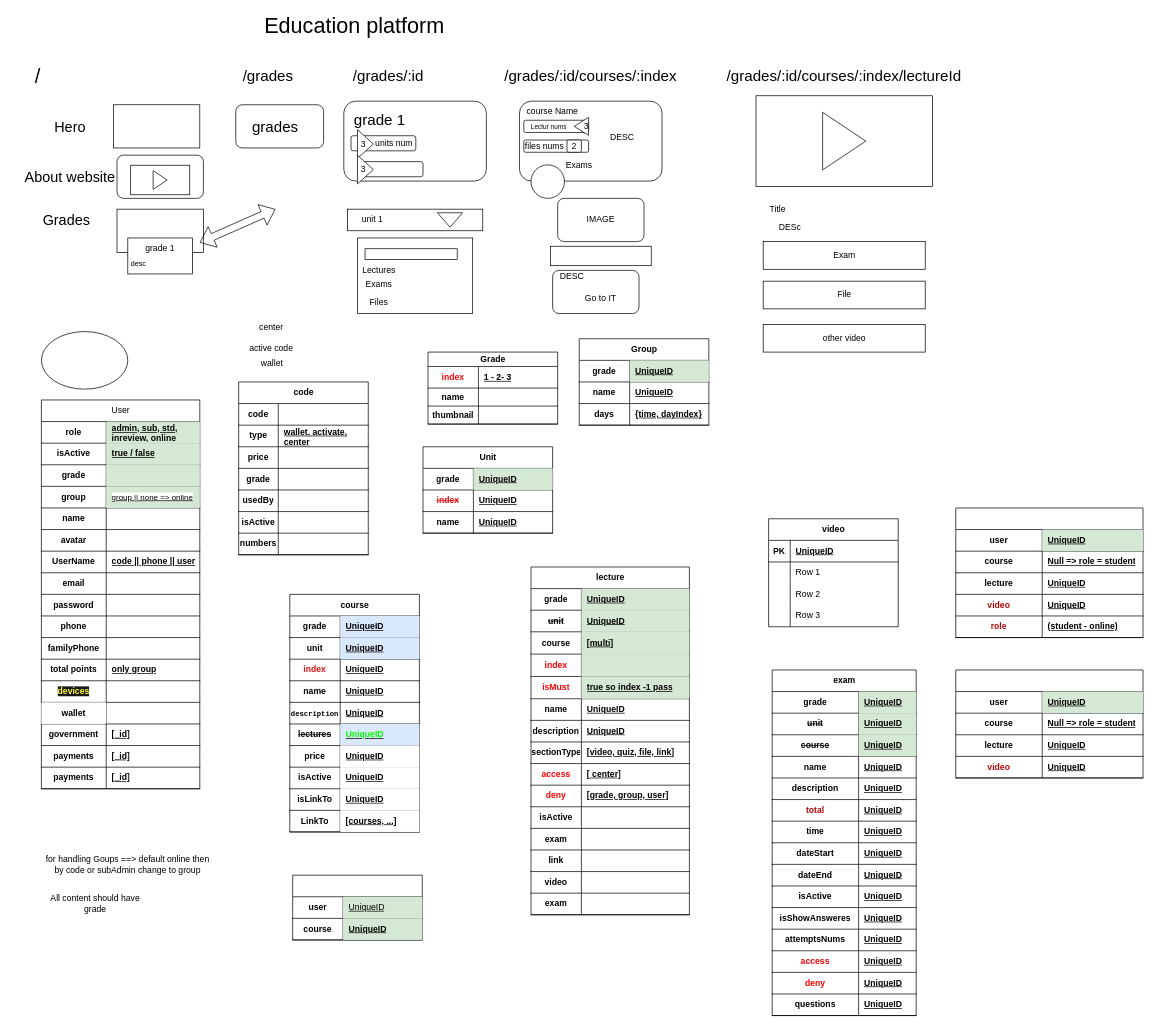
Image size: 1156x1028. Some labels were removed from this diagram. Here are the shapes that lost their labels. From the top down, the box of each, then its label:
(113, 104, 200, 148): ANimations
(357, 161, 423, 177): courses
(364, 248, 457, 260): course1
(550, 246, 651, 266): lecture 1
(41, 331, 128, 389): Edu Schema
(955, 507, 1143, 638): VIew
(955, 669, 1143, 778): Attempt
(292, 874, 422, 940): userCourses
